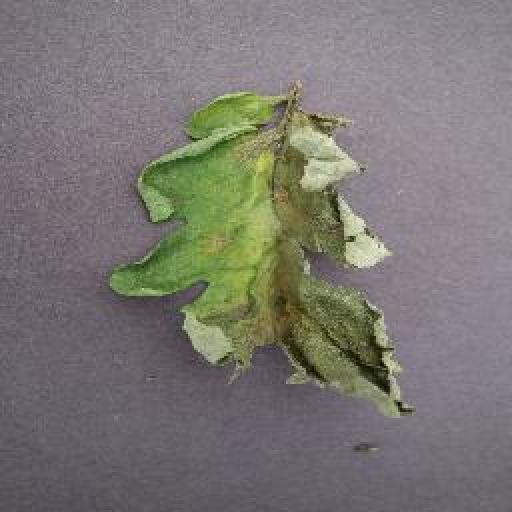disease_tomato: (109, 88, 415, 428)
